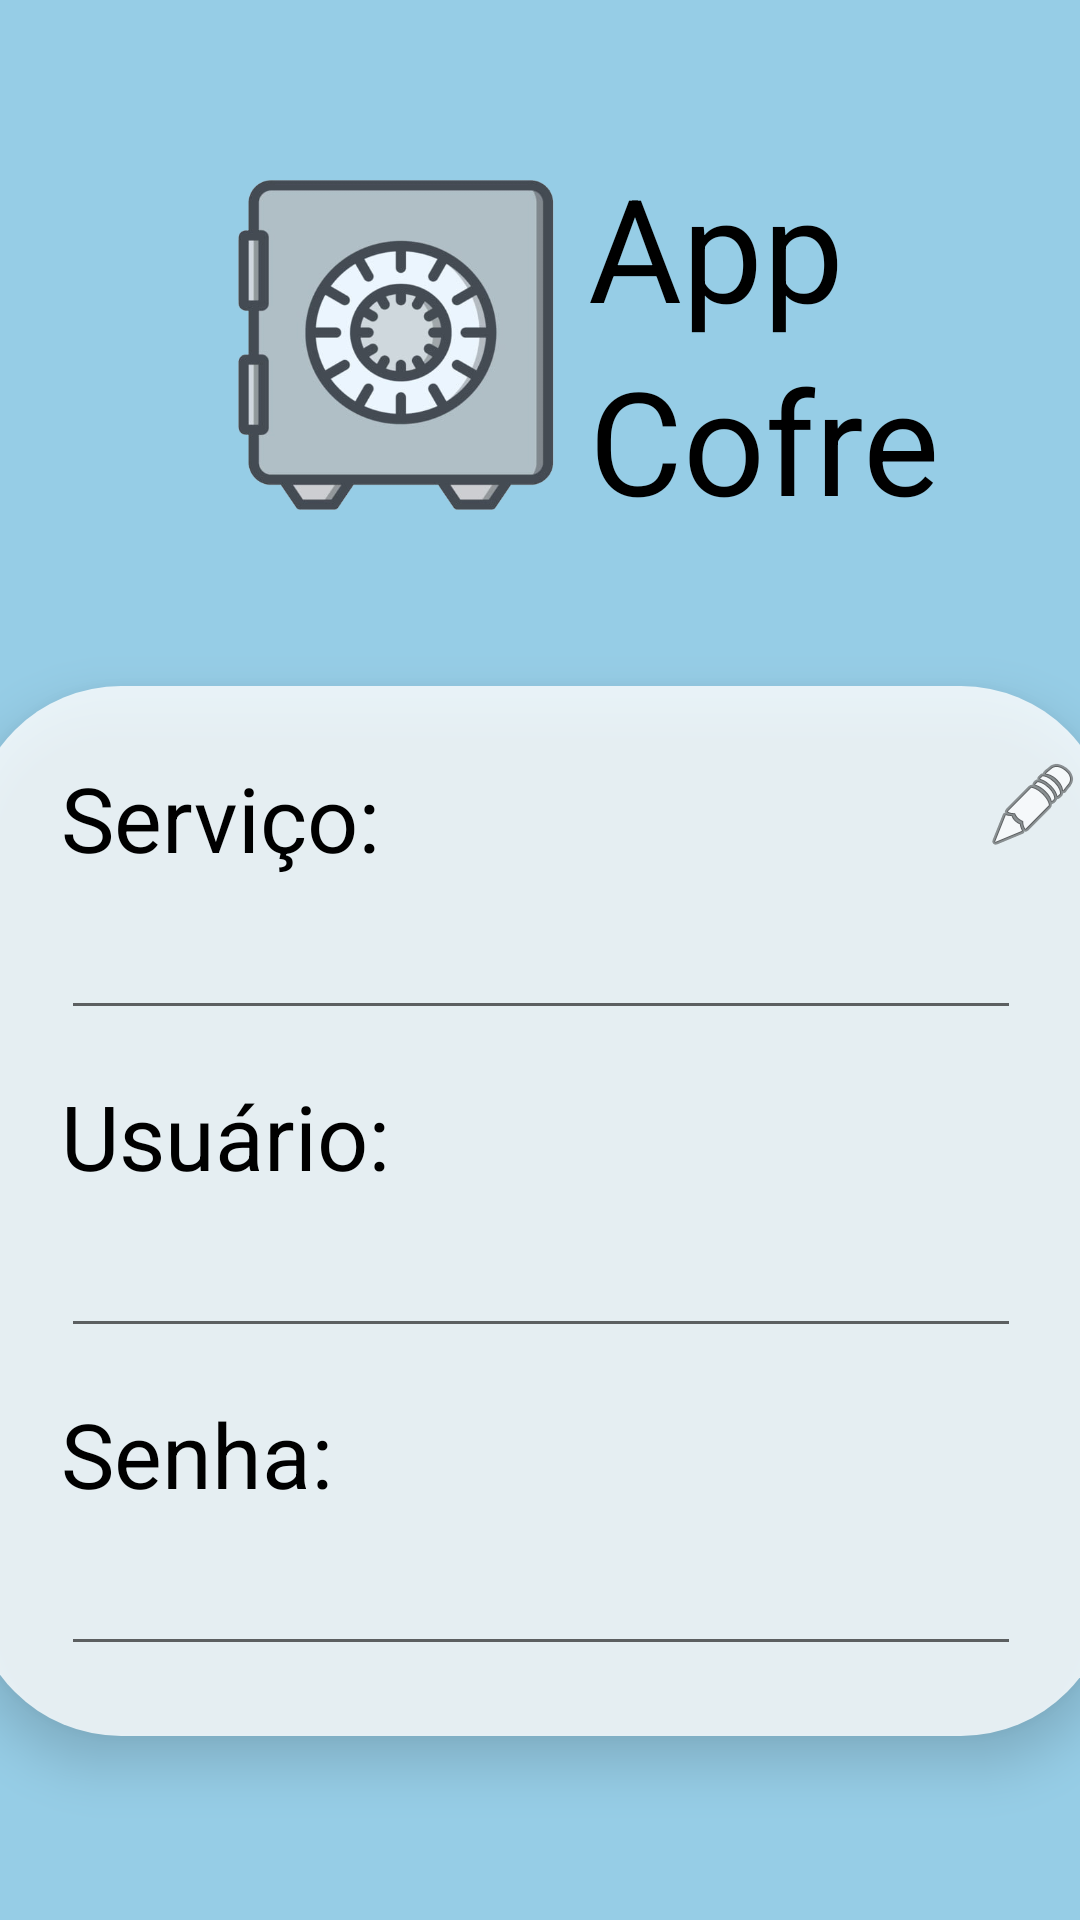

Where to tap for icons on this 1080×1920 app screen, as (x=x, y=y):
edit: (x=1032, y=804)
